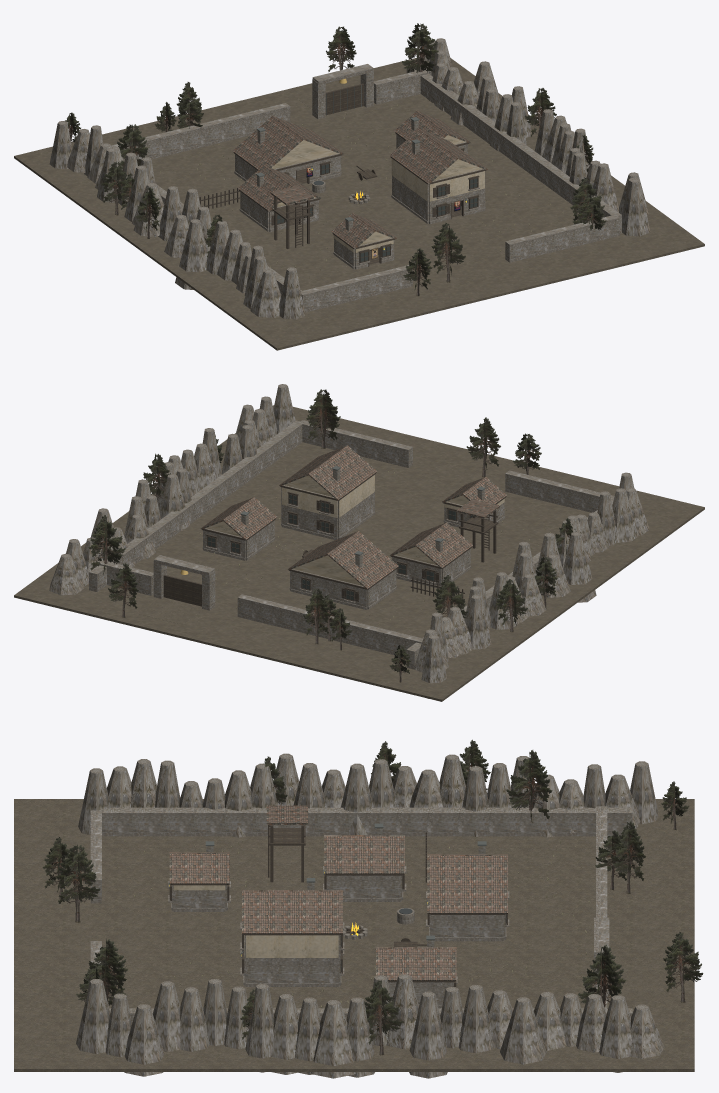
File: village.glb
3 views of the same model, one above another, from view 1: azimuth 30°, elevation 25°; view 2: azimuth 150°, elevation 25°; view 3: azimuth 270°, elevation 25° (orthographic). The views are drawn at different scales.
Parts seen in each view (by area): view 1: Ground, Cliffs, Perimeter, House_Shotgun, Roof_Barn, Roof_Shotgun, PinePatch_1_2, PinePatch_-1_-3, PinePatch_-3_0, House_Barn, Roof_West, GateArch (+12 smaller); view 2: Ground, Cliffs, Perimeter, House_Shotgun, Roof_Barn, Roof_Shotgun, House_Barn, Roof_West, PinePatch_1_2, PinePatch_-1_-3, Roof_East, House_East (+14 smaller); view 3: Ground, Cliffs, Perimeter, House_Shotgun, Roof_Barn, Roof_Shotgun, Roof_West, PinePatch_1_2, Roof_East, PinePatch_-1_-3, House_Barn, House_West (+13 smaller).
Part boxes in pixels (x1,y1,x2,y2): Ground: (14,57,704,350); Cliffs: (49,38,650,319); Perimeter: (111,64,621,312); House_Shotgun: (390,156,486,224); Roof_Barn: (232,115,343,169); Roof_Shotgun: (389,129,487,184); PinePatch_1_2: (326,23,438,80); PinePatch_-1_-3: (403,222,465,296); PinePatch_-3_0: (101,161,160,238); House_Barn: (233,152,341,183); Roof_West: (238,165,321,211); GateArch: (312,64,373,119); Ground: (14,405,704,701); Cliffs: (49,384,649,698); Perimeter: (89,420,614,669); House_Shotgun: (280,473,375,539); Roof_Barn: (287,531,398,589); Roof_Shotgun: (279,445,377,500); House_Barn: (289,567,397,609); Roof_West: (389,522,472,568); PinePatch_1_2: (88,515,138,617); PinePatch_-1_-3: (466,417,541,477); Roof_East: (200,497,276,540); House_East: (202,518,275,560); Ground: (14,799,694,1071); Cliffs: (76,753,664,1078); Perimeter: (90,806,632,1023); House_Shotgun: (240,922,344,986); Roof_Barn: (427,841,507,913); Roof_Shotgun: (241,878,343,934); Roof_West: (324,823,404,874); PinePatch_1_2: (578,931,703,1008); Roof_East: (375,935,456,981); PinePatch_-1_-3: (42,837,100,922); House_Barn: (426,891,509,941); House_West: (323,866,406,901).
Size of the model in its own units: 62 by 11.94 by 67.02.
Materials: 20 (13 with a texture image).
